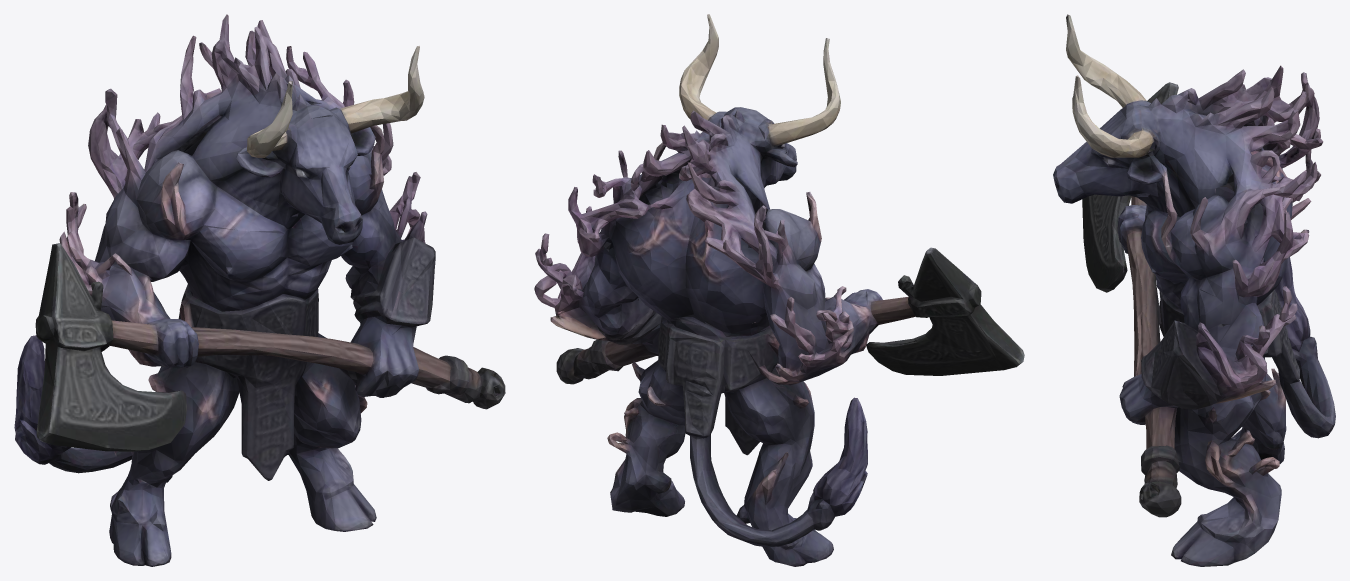
Rendered from shadowMinotaur.glb.
3 views of the same model, side by side, from view 1: azimuth 30°, elevation 25°; view 2: azimuth 150°, elevation 25°; view 3: azimuth 270°, elevation 25° (orthographic). The views are drawn at different scales.
Visible parts, largest first — view 1: world; view 2: world; view 3: world.
Boxes of the visible parts, x1,y1,x2,y2 form: world: (14,14,505,566); world: (534,14,1024,566); world: (1053,14,1335,566).
Size of the model in its own units: 0.9531 by 0.9499 by 0.5053.
1 material, 1 textured.
